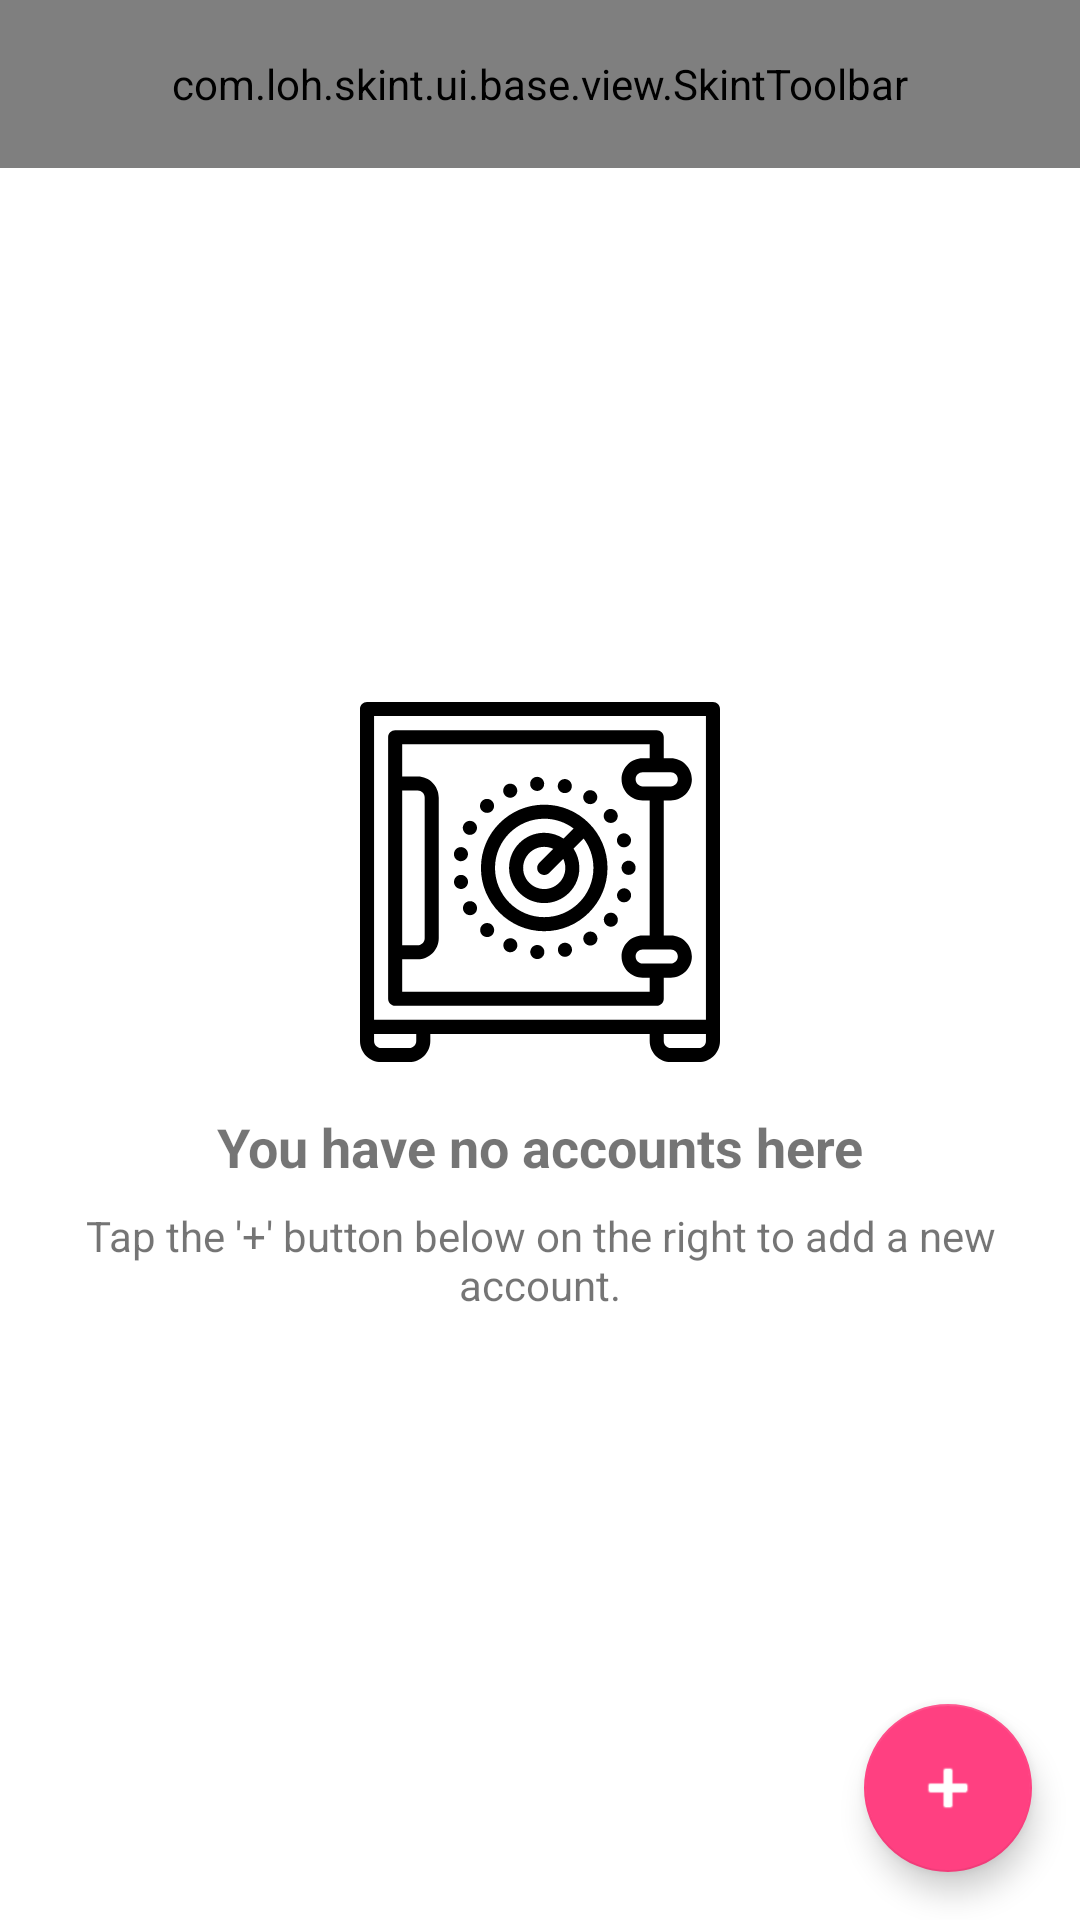

Named icons in this screenshot (1080w x 1920h) and their bounding boxes, (x1, y1, x2, y2):
add: (864, 1704, 1032, 1872)
safebox: (360, 702, 720, 1062)
